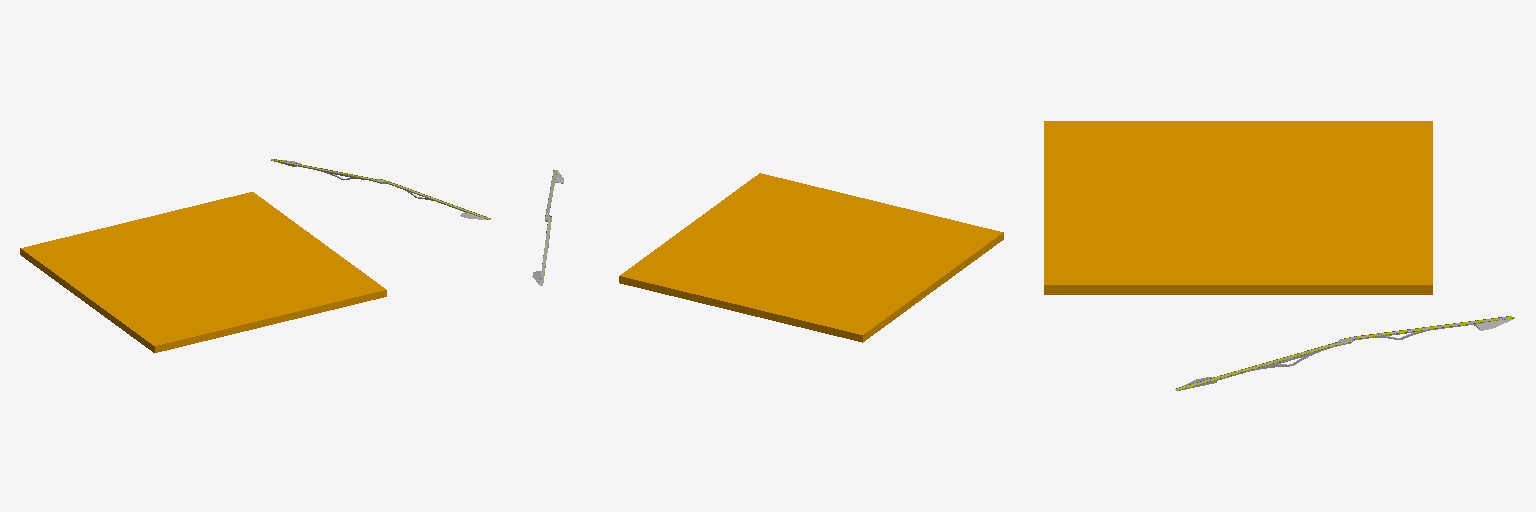
URDF robot description (mondego_river):
<?xml version="1.0"?>

<robot name="mondego_river">
        
	<!-- world axis -->
	<link name="world">
		<visual>
			<origin xyz="0 0 0" rpy="0 0 0" />
			<geometry>
				<box size="346.0 346.0 10.0" />
			</geometry>
			<material name="mondego">
				<texture filename="package://squirtle_description/meshes/backgrounds/mondego.png" /> 
			</material>
		</visual>
	</link>
	
	<!-- base station -->
	<link name="base_station">
		<visual>
			<origin xyz="74 137 5" rpy="0 0 0" />
			<geometry>
				<box size="0.001 0.001 0.001" />
			</geometry>
		</visual>
	</link>
	
	<joint name="world_base_station_joint" type="fixed">
		<parent link="world"/>
		<child link="base_station" />
		<origin xyz="-28 124 5" rpy="0 0 -1.57" />
	</joint>
	
	<joint name="world_bridge_joint" type="fixed">
		<parent link="world"/>
		<child link="bridge" />
		<origin xyz="319 95 5" rpy="0 0 1.66" />
	</joint>
	
	<!-- bridge -->
	<link name="bridge">
		<visual>
			<origin xyz="0 0 0" rpy="0 0 0" />
			<geometry>
				<mesh filename="package://squirtle_description/meshes/bridge.dae"/>
			</geometry>
		</visual>
	</link>
	
</robot>

--- What the picture shows (computed from the rendered views, not written in the file) ---
The picture shows the robot from 3 angles, left to right: view 1: azimuth 30°, elevation 25°; view 2: azimuth 150°, elevation 25°; view 3: azimuth 270°, elevation 25°; orthographic projection.
Model mondego_river with 3 links and 2 joints (2 fixed), rooted at world, posed all joints at 0.
Visible links, largest first — view 1: world, bridge; view 2: world, bridge; view 3: world, bridge.
Boxes of the visible links, bbox=[...] form: world: bbox=[20, 192, 386, 352]; bridge: bbox=[271, 159, 490, 219]; world: bbox=[619, 173, 1003, 342]; bridge: bbox=[532, 170, 563, 285]; world: bbox=[1044, 121, 1432, 294]; bridge: bbox=[1175, 316, 1514, 390].
Size in the robot's own frame: 570 by 420 by 23.21 metres.
1 mesh visuals loaded from 1 distinct referenced files (1 Collada DAE).